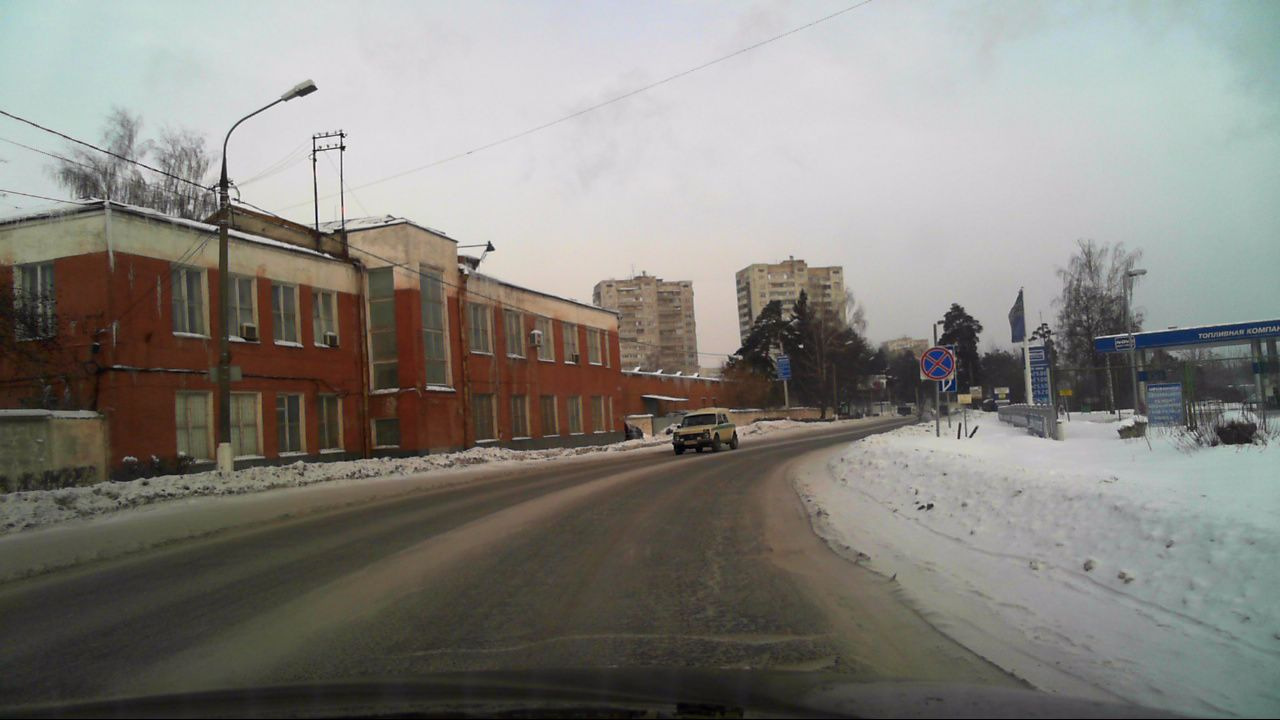No Parking: (920, 348, 953, 383)
